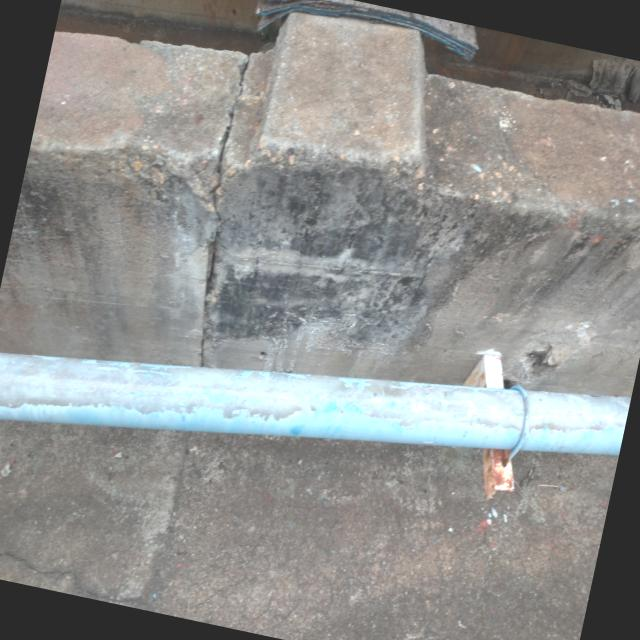gas: (0, 355, 623, 458)
